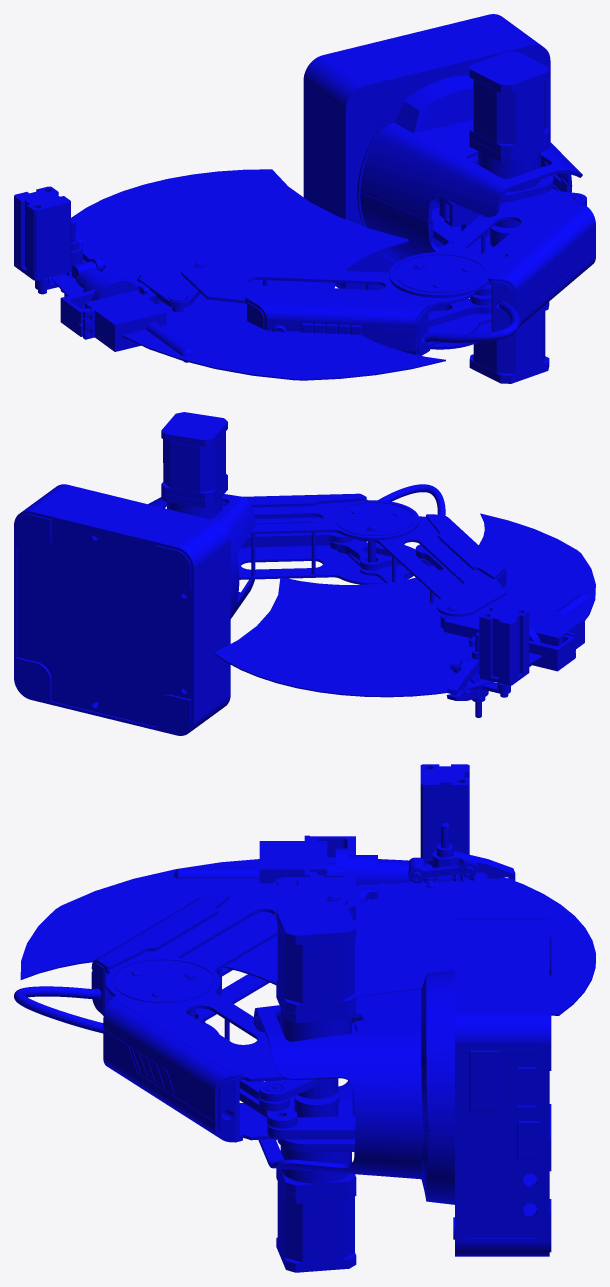
File: dobot_arm.glb
The picture shows the model from 3 angles, top to bottom: view 1: azimuth 30°, elevation 25°; view 2: azimuth 150°, elevation 25°; view 3: azimuth 270°, elevation 25°; orthographic projection. The views are drawn at different scales.
Parts seen in each view (by area): view 1: AB-3D, ___________A_2.PRT, DIZUO_KE_YOU_A_2.PRT, ____12_A_1.PRT, BREP_3-965_3.PRT, __34_A_2.PRT, ______27_A_2.PRT, ______42_A_2.PRT, ___0_5MM_A_1.PRT, Æø¸×_020, ____11_A_1.PRT, ¶æ»ú_230 (+12 smaller); view 2: AB-3D, __4_A_1.PRT, ___________A_2.PRT, BREP_3-965_3.PRT, ____12_A_1.PRT, __34_A_2.PRT, __15_A_1.PRT (×4), Æø¸×_020, ______42_A_2.PRT, DIZUO_KE_YOU_A_2.PRT, ¶æ»ú_230, ______27_A_2.PRT (+8 smaller); view 3: AB-3D, DIZUO_KE_YOU_A_2.PRT, ___________A_2.PRT, ________230_A_1.PRT, ______27_A_2.PRT, ____12_A_1.PRT, BREP_3-965_3.PRT, ____11_A_1.PRT, __34_A_2.PRT, DIZUO_KE_ZUO_A_3.PRT, Æø¸×_020, ______42_A_2.PRT (+15 smaller).
Boxes of the visible parts, bbox=[...] form: AB-3D: bbox=[50, 169, 445, 380]; ___________A_2.PRT: bbox=[303, 14, 550, 288]; DIZUO_KE_YOU_A_2.PRT: bbox=[360, 76, 582, 222]; ____12_A_1.PRT: bbox=[469, 51, 549, 191]; BREP_3-965_3.PRT: bbox=[389, 188, 578, 349]; __34_A_2.PRT: bbox=[181, 259, 491, 348]; ______27_A_2.PRT: bbox=[488, 203, 595, 326]; ______42_A_2.PRT: bbox=[245, 293, 429, 355]; ___0_5MM_A_1.PRT: bbox=[348, 48, 547, 289]; Æø¸×_020: bbox=[14, 186, 70, 276]; ____11_A_1.PRT: bbox=[469, 298, 549, 383]; ¶æ»ú_230: bbox=[83, 290, 166, 351]; AB-3D: bbox=[214, 513, 595, 697]; __4_A_1.PRT: bbox=[17, 519, 190, 726]; ___________A_2.PRT: bbox=[14, 484, 230, 735]; BREP_3-965_3.PRT: bbox=[222, 500, 419, 584]; ____12_A_1.PRT: bbox=[161, 412, 227, 519]; __34_A_2.PRT: bbox=[337, 516, 505, 616]; __15_A_1.PRT (×4): bbox=[16, 514, 190, 733]; Æø¸×_020: bbox=[479, 603, 529, 681]; ______42_A_2.PRT: bbox=[426, 514, 506, 588]; DIZUO_KE_YOU_A_2.PRT: bbox=[148, 494, 255, 591]; ¶æ»ú_230: bbox=[529, 608, 584, 657]; ______27_A_2.PRT: bbox=[222, 493, 366, 507]; AB-3D: bbox=[20, 857, 595, 1015]; DIZUO_KE_YOU_A_2.PRT: bbox=[253, 970, 454, 1134]; ___________A_2.PRT: bbox=[455, 918, 549, 1256]; ________230_A_1.PRT: bbox=[460, 1049, 542, 1238]; ______27_A_2.PRT: bbox=[103, 994, 242, 1142]; ____12_A_1.PRT: bbox=[276, 902, 356, 1041]; BREP_3-965_3.PRT: bbox=[106, 957, 338, 1140]; ____11_A_1.PRT: bbox=[276, 1145, 356, 1272]; __34_A_2.PRT: bbox=[105, 883, 348, 1020]; DIZUO_KE_ZUO_A_3.PRT: bbox=[258, 1080, 454, 1204]; Æø¸×_020: bbox=[420, 764, 469, 859]; ______42_A_2.PRT: bbox=[91, 894, 229, 1015].
Size of the model in its own units: 0.4123 by 0.22 by 0.3444.
